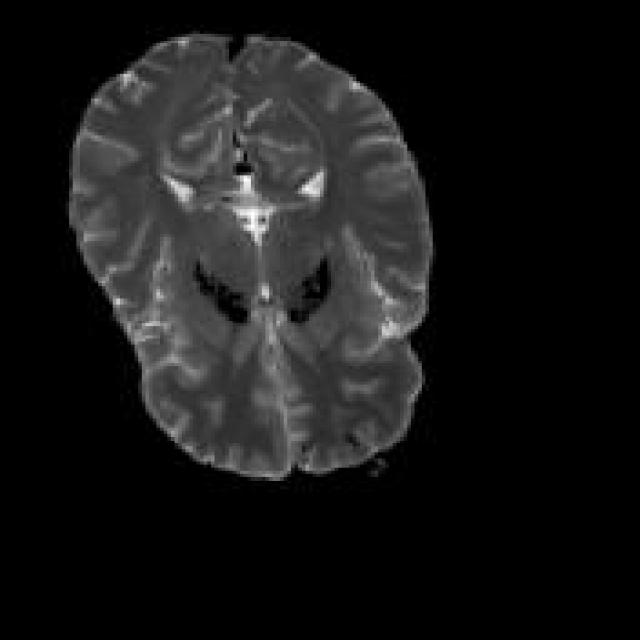CONTROL: (65, 28, 433, 480)
